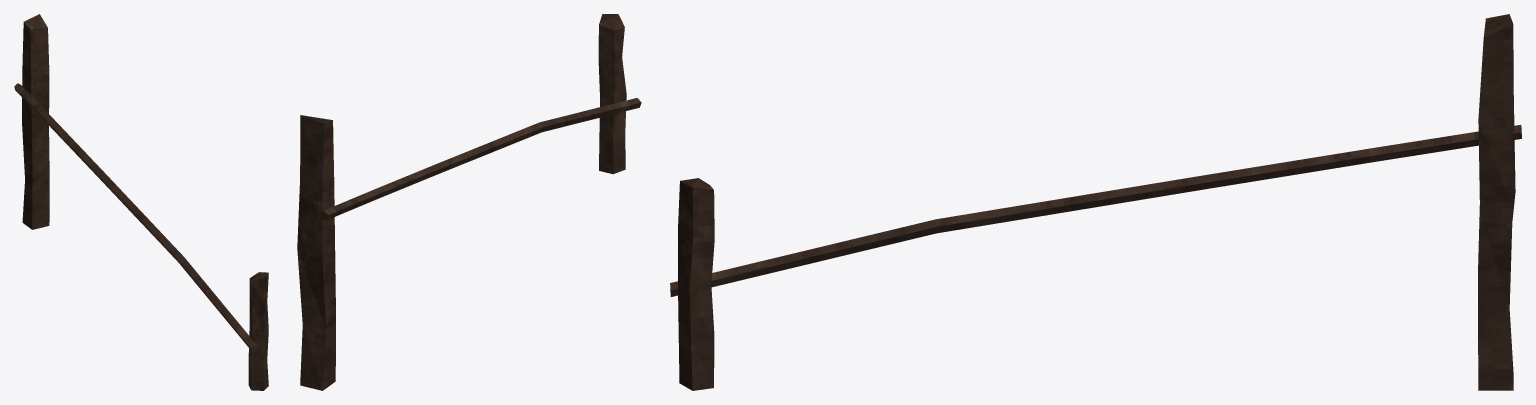
The model's file is fence.fbx.
3 views of the same model, side by side, from view 1: azimuth 30°, elevation 25°; view 2: azimuth 150°, elevation 25°; view 3: azimuth 270°, elevation 25° (orthographic). The views are drawn at different scales.
Parts seen in each view (by area): view 1: fence_1; view 2: fence_1; view 3: fence_1.
Part boxes in pixels (x1,y1,x2,y2): fence_1: (14, 14, 268, 390); fence_1: (297, 14, 641, 390); fence_1: (670, 14, 1521, 390).
Bounding box in the file's own units: 17.73 × 283 × 135.
